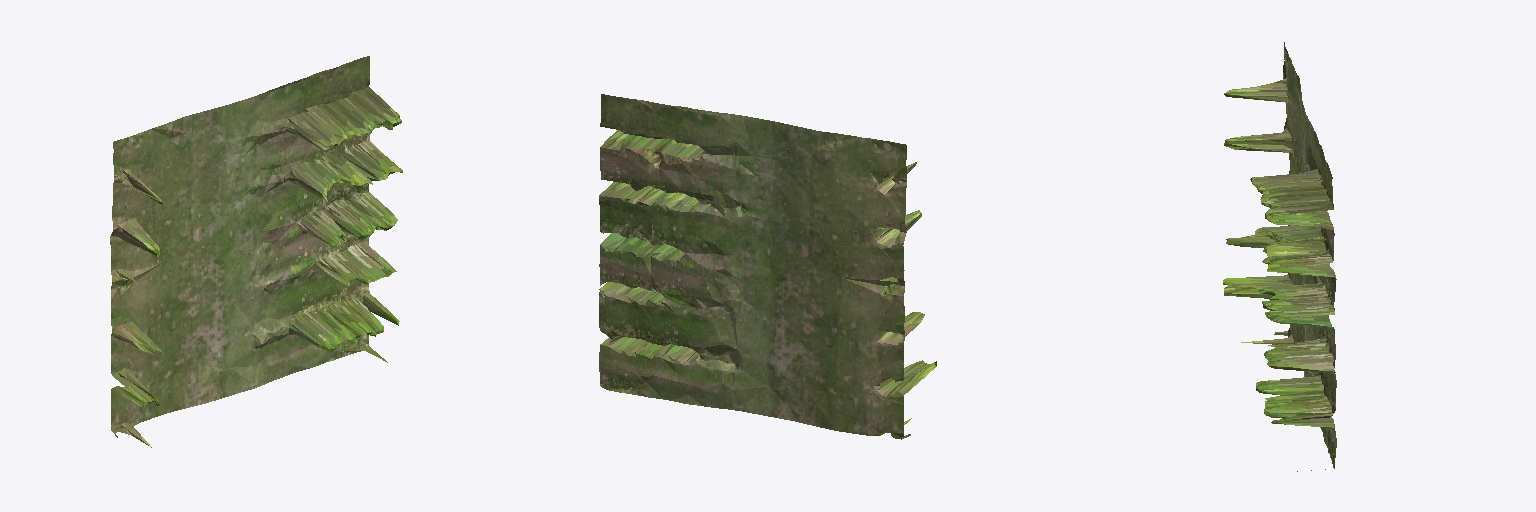
3 views of the same model, side by side, from view 1: azimuth 30°, elevation 25°; view 2: azimuth 150°, elevation 25°; view 3: azimuth 270°, elevation 25° (orthographic).
Visible parts, largest first — view 1: grp1; view 2: grp1; view 3: grp1.
Boxes of the visible parts, <box> form: grp1: <box>110,56,402,447</box>; grp1: <box>599,94,936,439</box>; grp1: <box>1223,42,1336,471</box>.
Bounding box in the file's own units: 10 × 10 × 3.51.
Materials: 1 (1 with a texture image).